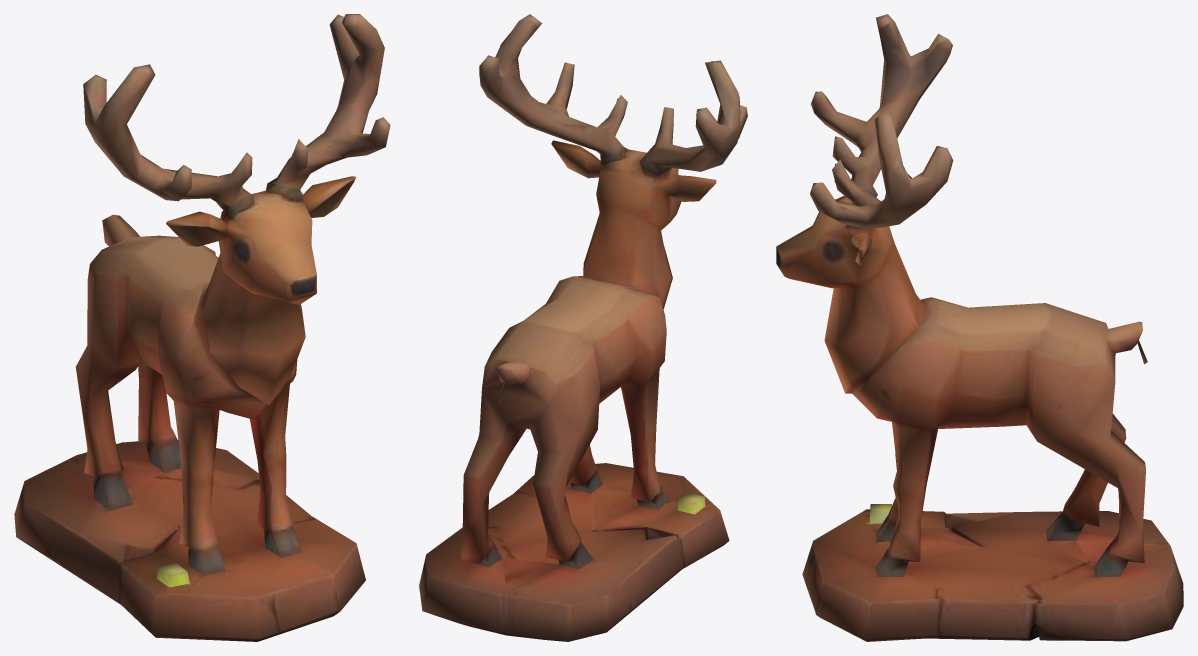
The model's file is x-statue-stag.glb.
The picture shows the model from 3 angles, left to right: view 1: azimuth 30°, elevation 25°; view 2: azimuth 150°, elevation 25°; view 3: azimuth 270°, elevation 25°; orthographic projection. The views are drawn at different scales.
Parts seen in each view (by area): view 1: geometry_0; view 2: geometry_0; view 3: geometry_0.
Part boxes in pixels (x1,y1,x2,y2): geometry_0: (14,14,390,641); geometry_0: (419,14,747,641); geometry_0: (776,14,1183,641).
Bounding box in the file's own units: 0.522 × 1 × 0.6965.
1 material, 1 textured.
